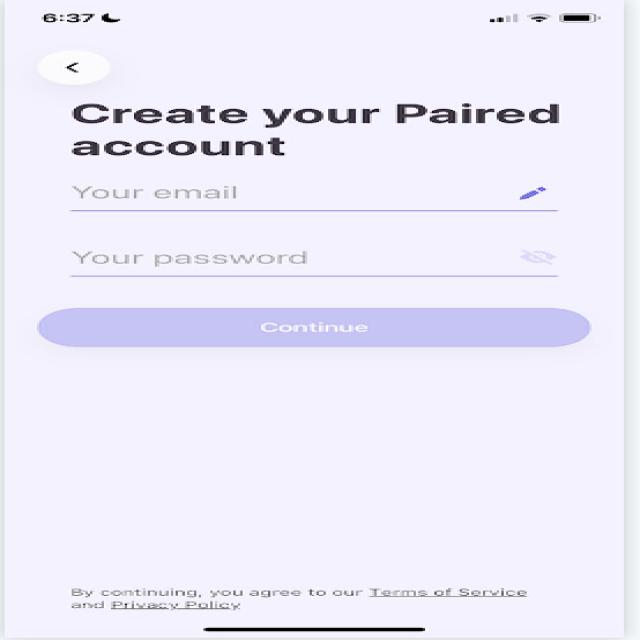button: (21, 300, 601, 353)
icon button: (27, 47, 116, 90)
input: (50, 226, 597, 288), (55, 164, 592, 224)
text: (50, 98, 590, 160)
